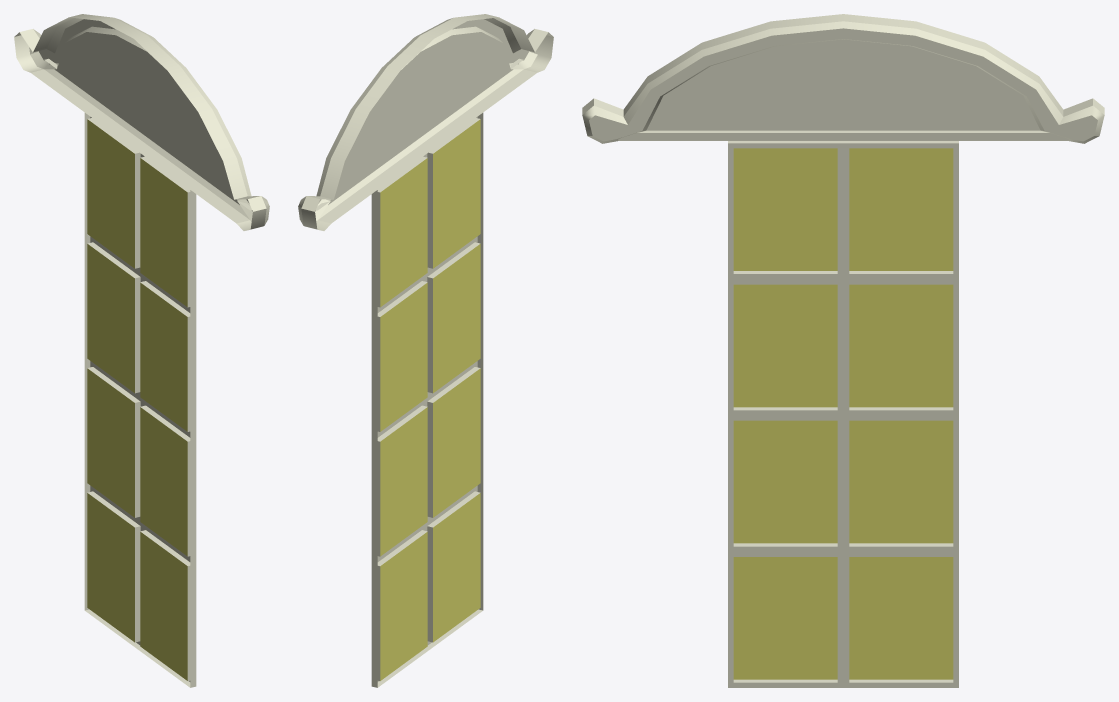
File: SM_HOTEL_Window_small.fbx
3 renders of one model, left to right at view 1: azimuth 30°, elevation 25°; view 2: azimuth 150°, elevation 25°; view 3: azimuth 270°, elevation 25°, orthographic. The views are drawn at different scales.
Parts seen in each view (by area): view 1: SM_HOTEL_Window_small; view 2: SM_HOTEL_Window_small; view 3: SM_HOTEL_Window_small.
Part boxes in pixels (bbox=[...]): SM_HOTEL_Window_small: bbox=[14, 14, 269, 687]; SM_HOTEL_Window_small: bbox=[298, 14, 553, 687]; SM_HOTEL_Window_small: bbox=[582, 14, 1104, 687].
Size of the model in its own units: 10.89 by 319 by 226.
